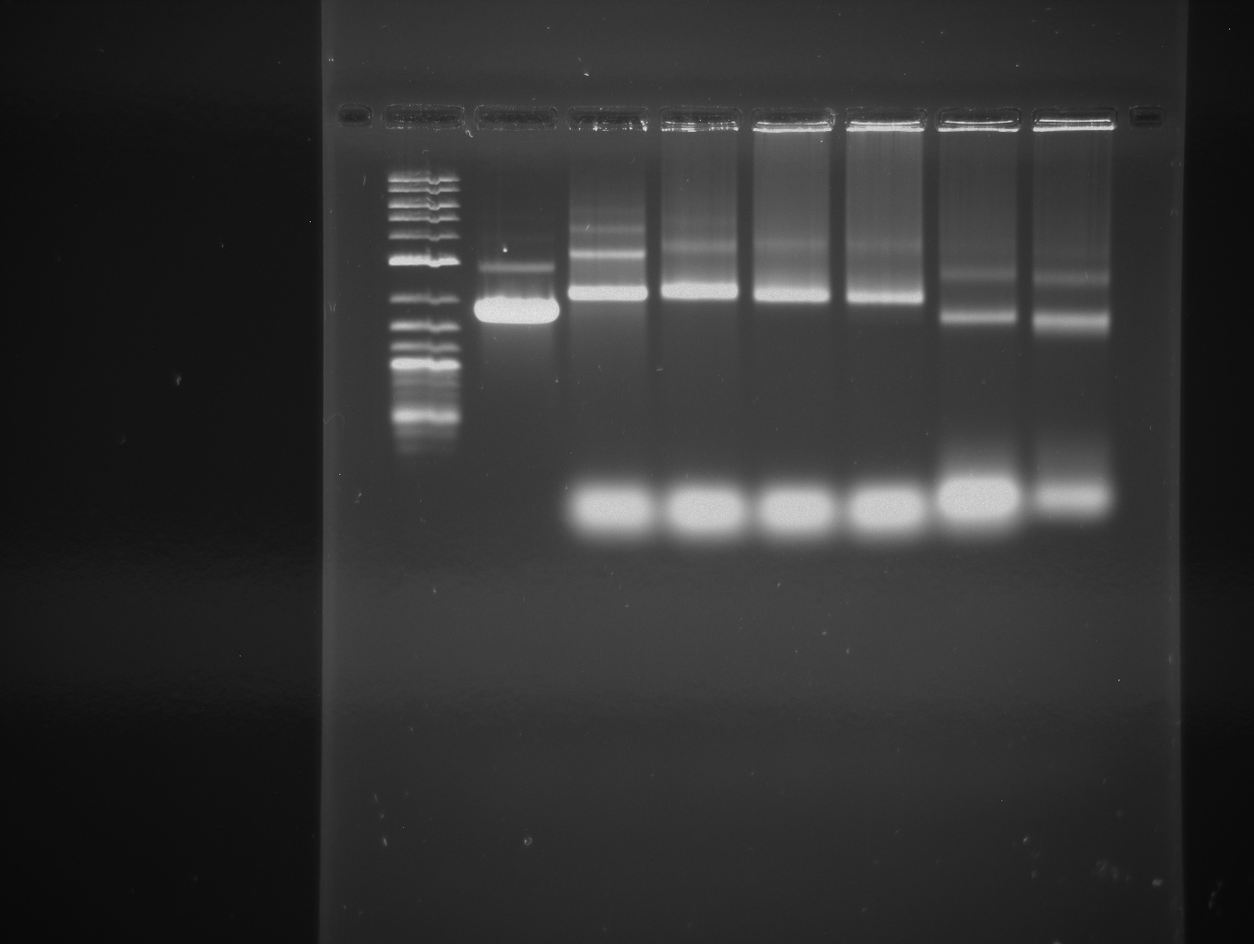Lane: (938, 88, 1032, 944), (470, 76, 562, 944), (572, 88, 658, 944), (664, 101, 751, 944), (756, 90, 841, 944), (846, 90, 928, 944), (1037, 74, 1117, 944)
ladder: (385, 92, 458, 944)
